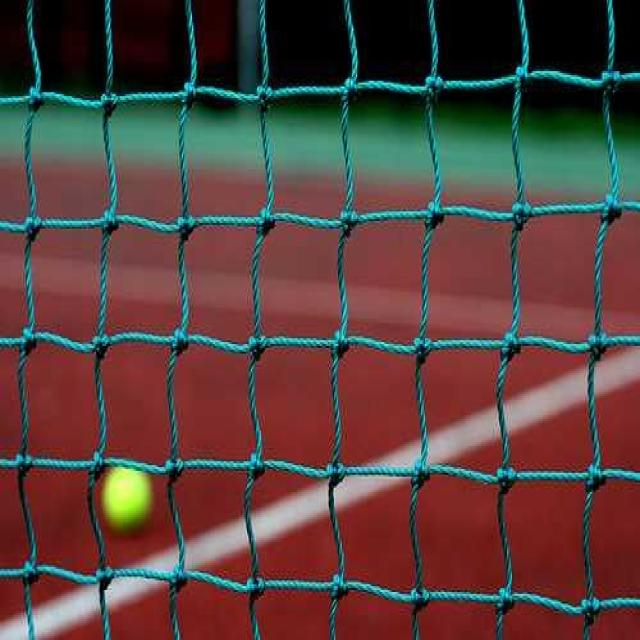Tennis_Ball: (104, 464, 152, 526)
